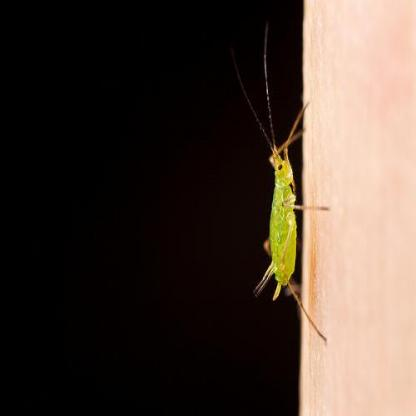aphid: (243, 72, 337, 332)
